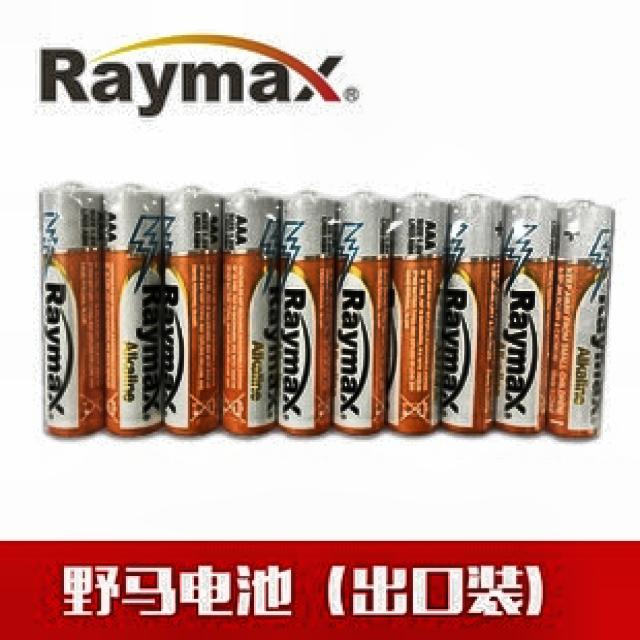Non-Valuable Waste - Batteries: (40, 184, 104, 437), (547, 201, 614, 437), (441, 195, 504, 433), (495, 196, 557, 433), (104, 185, 163, 434), (333, 193, 393, 433), (387, 194, 447, 433), (221, 190, 280, 433), (277, 191, 335, 434), (164, 187, 221, 434)
